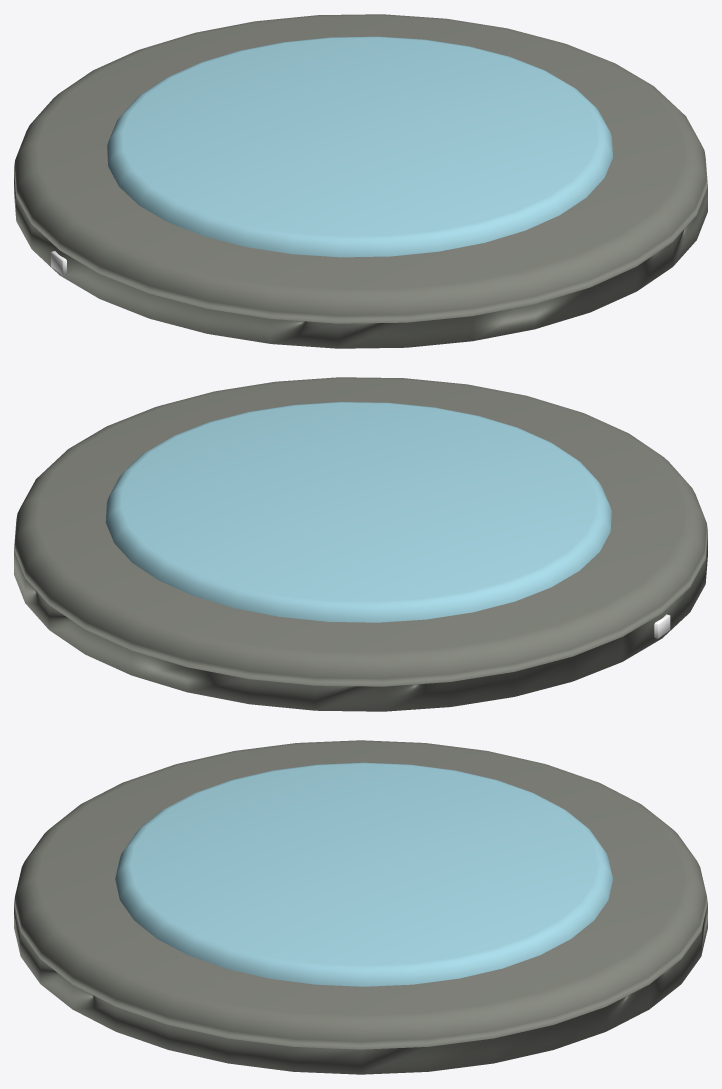
The model's file is FAB DIGITAL SHUFFLE.glb.
3 renders of one model, top to bottom at view 1: azimuth 30°, elevation 25°; view 2: azimuth 150°, elevation 25°; view 3: azimuth 270°, elevation 25°, orthographic.
Visible parts, largest first — view 1: Carcasa, Pantalla; view 2: Carcasa, Pantalla; view 3: Carcasa, Pantalla.
Boxes of the visible parts, left/top/right/bottom form: Carcasa: left=14, top=14, right=707, bottom=348; Pantalla: left=107, top=36, right=612, bottom=257; Carcasa: left=14, top=377, right=707, bottom=711; Pantalla: left=105, top=402, right=611, bottom=622; Carcasa: left=14, top=740, right=707, bottom=1074; Pantalla: left=115, top=762, right=612, bottom=986.
Bounding box in the file's own units: 2.18 × 0.2199 × 2.17.
